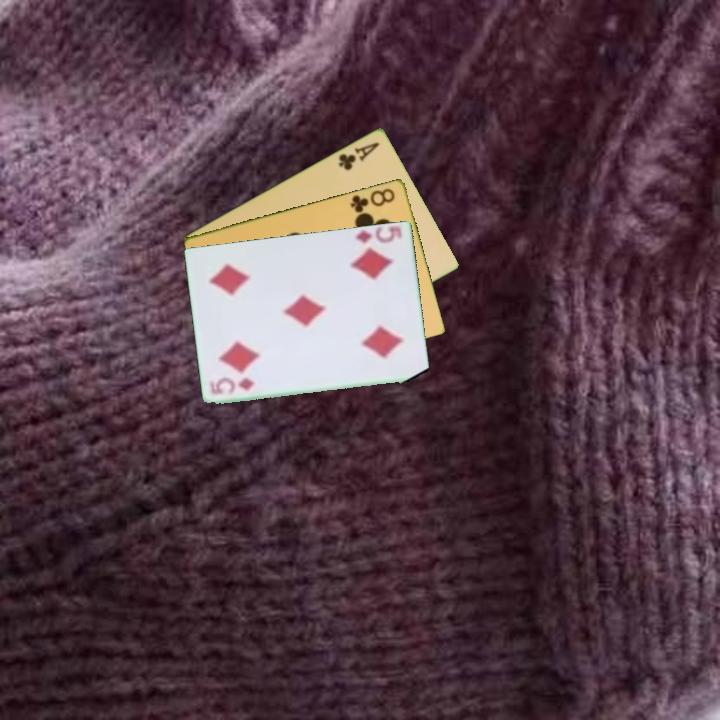5d: (351, 224, 403, 246), (207, 376, 257, 397)
8c: (347, 184, 398, 215)
Ac: (335, 138, 382, 173)
